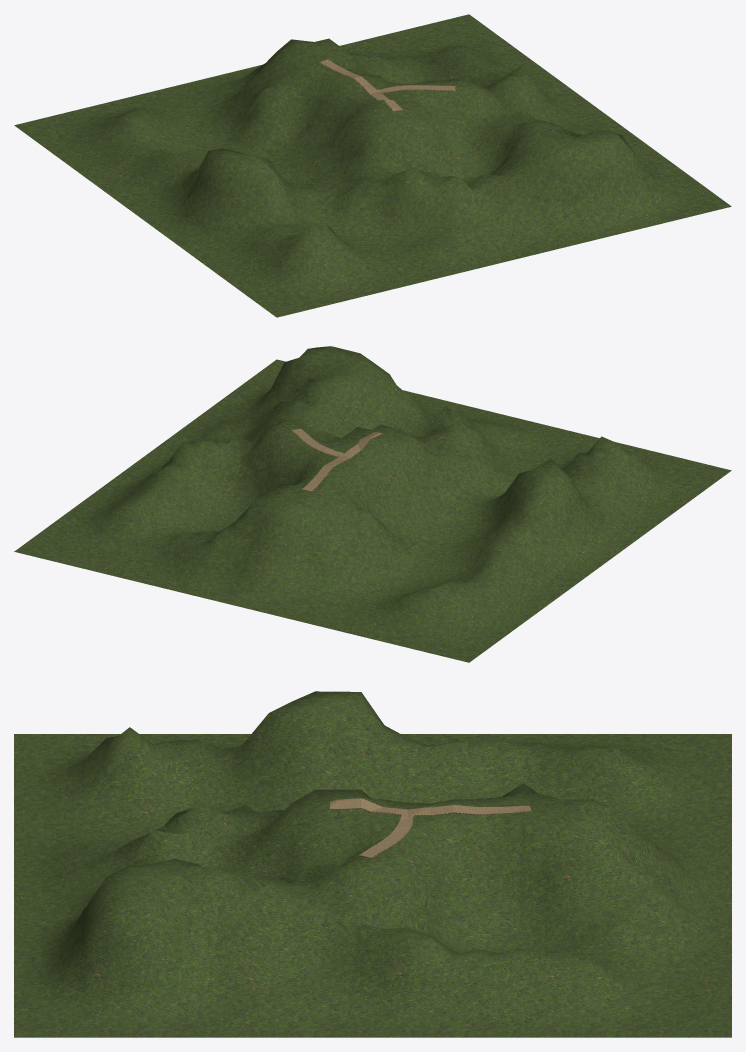
The model's file is Level4B1.fbx.
3 renders of one model, top to bottom at view 1: azimuth 30°, elevation 25°; view 2: azimuth 150°, elevation 25°; view 3: azimuth 270°, elevation 25°, orthographic. The views are drawn at different scales.
Parts seen in each view (by area): view 1: Landscape.001, Plane; view 2: Landscape.001, Plane; view 3: Landscape.001, Plane, Plane.001.
Boxes of the visible parts, x1,y1,x2,y2 form: Landscape.001: (14, 14, 731, 317); Plane: (319, 59, 402, 111); Landscape.001: (14, 346, 731, 662); Plane: (302, 432, 383, 491); Landscape.001: (14, 691, 731, 1037); Plane: (330, 798, 531, 815); Plane.001: (359, 810, 418, 858).
Size of the model in its own units: 15919 by 2257 by 15919.
